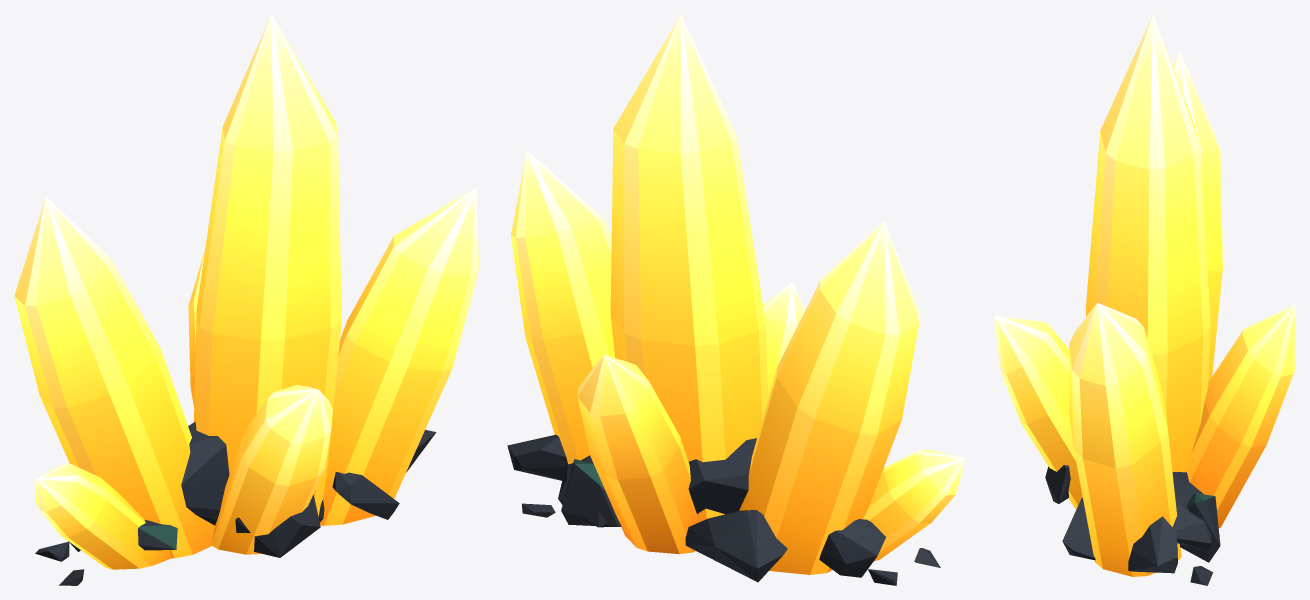
Rendered from crystal_c.glb.
3 renders of one model, left to right at view 1: azimuth 30°, elevation 25°; view 2: azimuth 150°, elevation 25°; view 3: azimuth 270°, elevation 25°, orthographic. The views are drawn at different scales.
Parts seen in each view (by area): view 1: crystal_c; view 2: crystal_c; view 3: crystal_c.
Part boxes in pixels (x1,y1,x2,y2): crystal_c: [14, 14, 478, 585]; crystal_c: [507, 14, 965, 585]; crystal_c: [994, 14, 1295, 585].
Bounding box in the file's own units: 1.98 × 2.14 × 1.15.
Materials: 2 (2 with a texture image).
